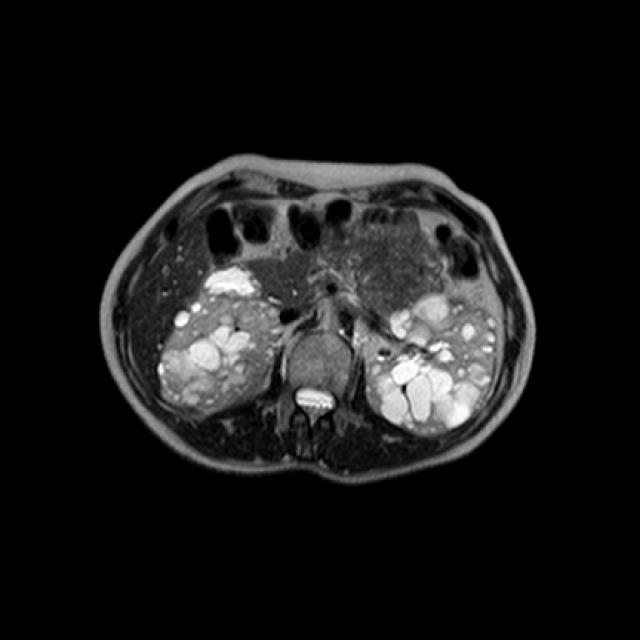sag: (158, 287, 280, 416)
sol: (364, 291, 498, 434)
